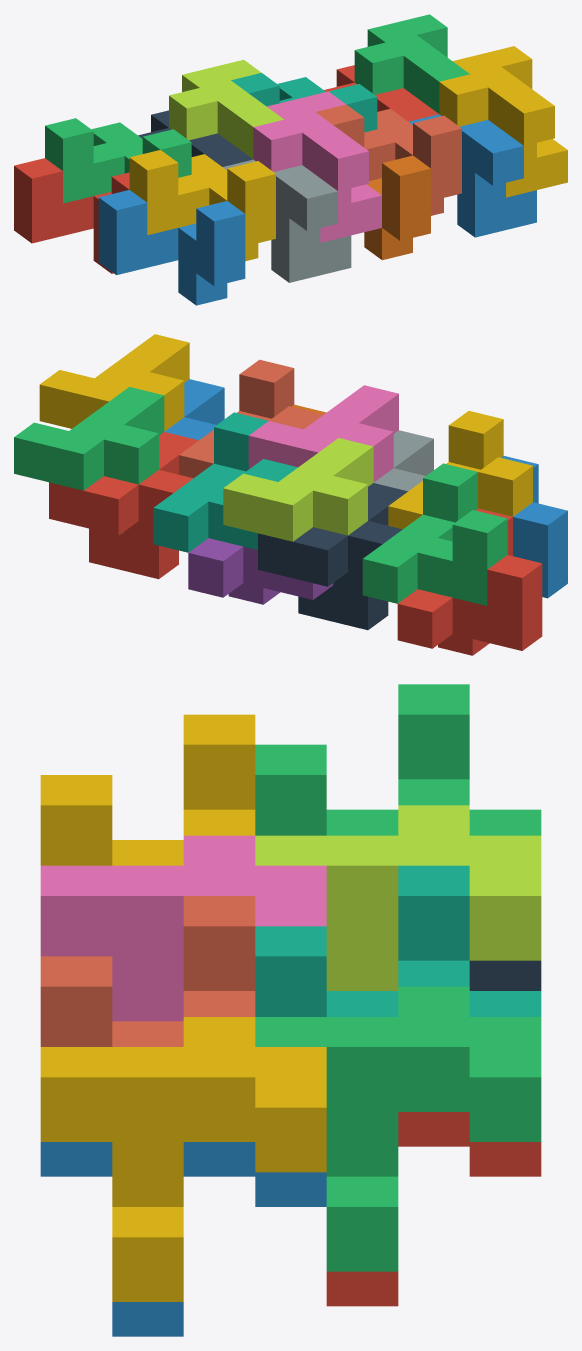
Rendered from tiling.obj.
3 views of the same model, one above another, from view 1: azimuth 30°, elevation 25°; view 2: azimuth 150°, elevation 25°; view 3: azimuth 270°, elevation 25° (orthographic). The views are drawn at different scales.
Parts seen in each view (by area): view 1: copy_1_domain_2, copy_2_domain_8, copy_2_domain_4, copy_1_domain_4, copy_2_domain_2, copy_1_domain_3, copy_2_domain_6, copy_2_domain_7, copy_1_domain_8, copy_2_domain_3, copy_1_domain_1, copy_1_domain_6 (+3 smaller); view 2: copy_1_domain_3, copy_2_domain_7, copy_2_domain_3, copy_2_domain_5, copy_1_domain_1, copy_2_domain_1, copy_1_domain_7, copy_2_domain_8, copy_2_domain_4, copy_1_domain_4, copy_1_domain_5, copy_1_domain_8 (+3 smaller); view 3: copy_2_domain_8, copy_2_domain_7, copy_2_domain_3, copy_2_domain_4, copy_1_domain_3, copy_1_domain_7, copy_1_domain_4, copy_1_domain_8, copy_2_domain_6, copy_2_domain_5, copy_2_domain_1.
Boxes of the visible parts, left/top/right/bottom form: copy_1_domain_2: left=98, top=190, right=245, bottom=305; copy_2_domain_8: left=439, top=46, right=567, bottom=197; copy_2_domain_4: left=253, top=91, right=381, bottom=242; copy_1_domain_4: left=129, top=150, right=275, bottom=261; copy_2_domain_2: left=223, top=159, right=351, bottom=282; copy_1_domain_3: left=45, top=118, right=191, bottom=203; copy_2_domain_6: left=408, top=114, right=536, bottom=237; copy_2_domain_7: left=354, top=14, right=469, bottom=113; copy_1_domain_8: left=316, top=104, right=461, bottom=215; copy_2_domain_3: left=169, top=59, right=283, bottom=158; copy_1_domain_1: left=14, top=158, right=129, bottom=273; copy_1_domain_6: left=364, top=155, right=430, bottom=260; copy_1_domain_3: left=362, top=463, right=507, bottom=605; copy_2_domain_7: left=14, top=387, right=164, bottom=534; copy_2_domain_3: left=223, top=438, right=373, bottom=541; copy_2_domain_5: left=49, top=432, right=198, bottom=579; copy_1_domain_1: left=397, top=508, right=542, bottom=655; copy_2_domain_1: left=258, top=483, right=407, bottom=630; copy_1_domain_7: left=153, top=412, right=297, bottom=552; copy_2_domain_8: left=39, top=334, right=189, bottom=431; copy_2_domain_4: left=248, top=385, right=398, bottom=482; copy_1_domain_4: left=388, top=411, right=532, bottom=529; copy_1_domain_5: left=188, top=538, right=333, bottom=604; copy_1_domain_8: left=179, top=359, right=323, bottom=478; copy_2_domain_8: left=40, top=1017, right=326, bottom=1301; copy_2_domain_7: left=255, top=986, right=541, bottom=1271; copy_2_domain_3: left=255, top=805, right=541, bottom=990; copy_2_domain_4: left=40, top=835, right=326, bottom=1021; copy_1_domain_3: left=255, top=684, right=541, bottom=835; copy_1_domain_7: left=255, top=865, right=541, bottom=1016; copy_1_domain_4: left=40, top=714, right=255, bottom=865; copy_1_domain_8: left=40, top=896, right=255, bottom=1046; copy_2_domain_6: left=40, top=1142, right=326, bottom=1336; copy_2_domain_5: left=326, top=1112, right=541, bottom=1306; copy_2_domain_1: left=469, top=960, right=541, bottom=990.
Bounding box in the file's own units: 15 × 4 × 7.
